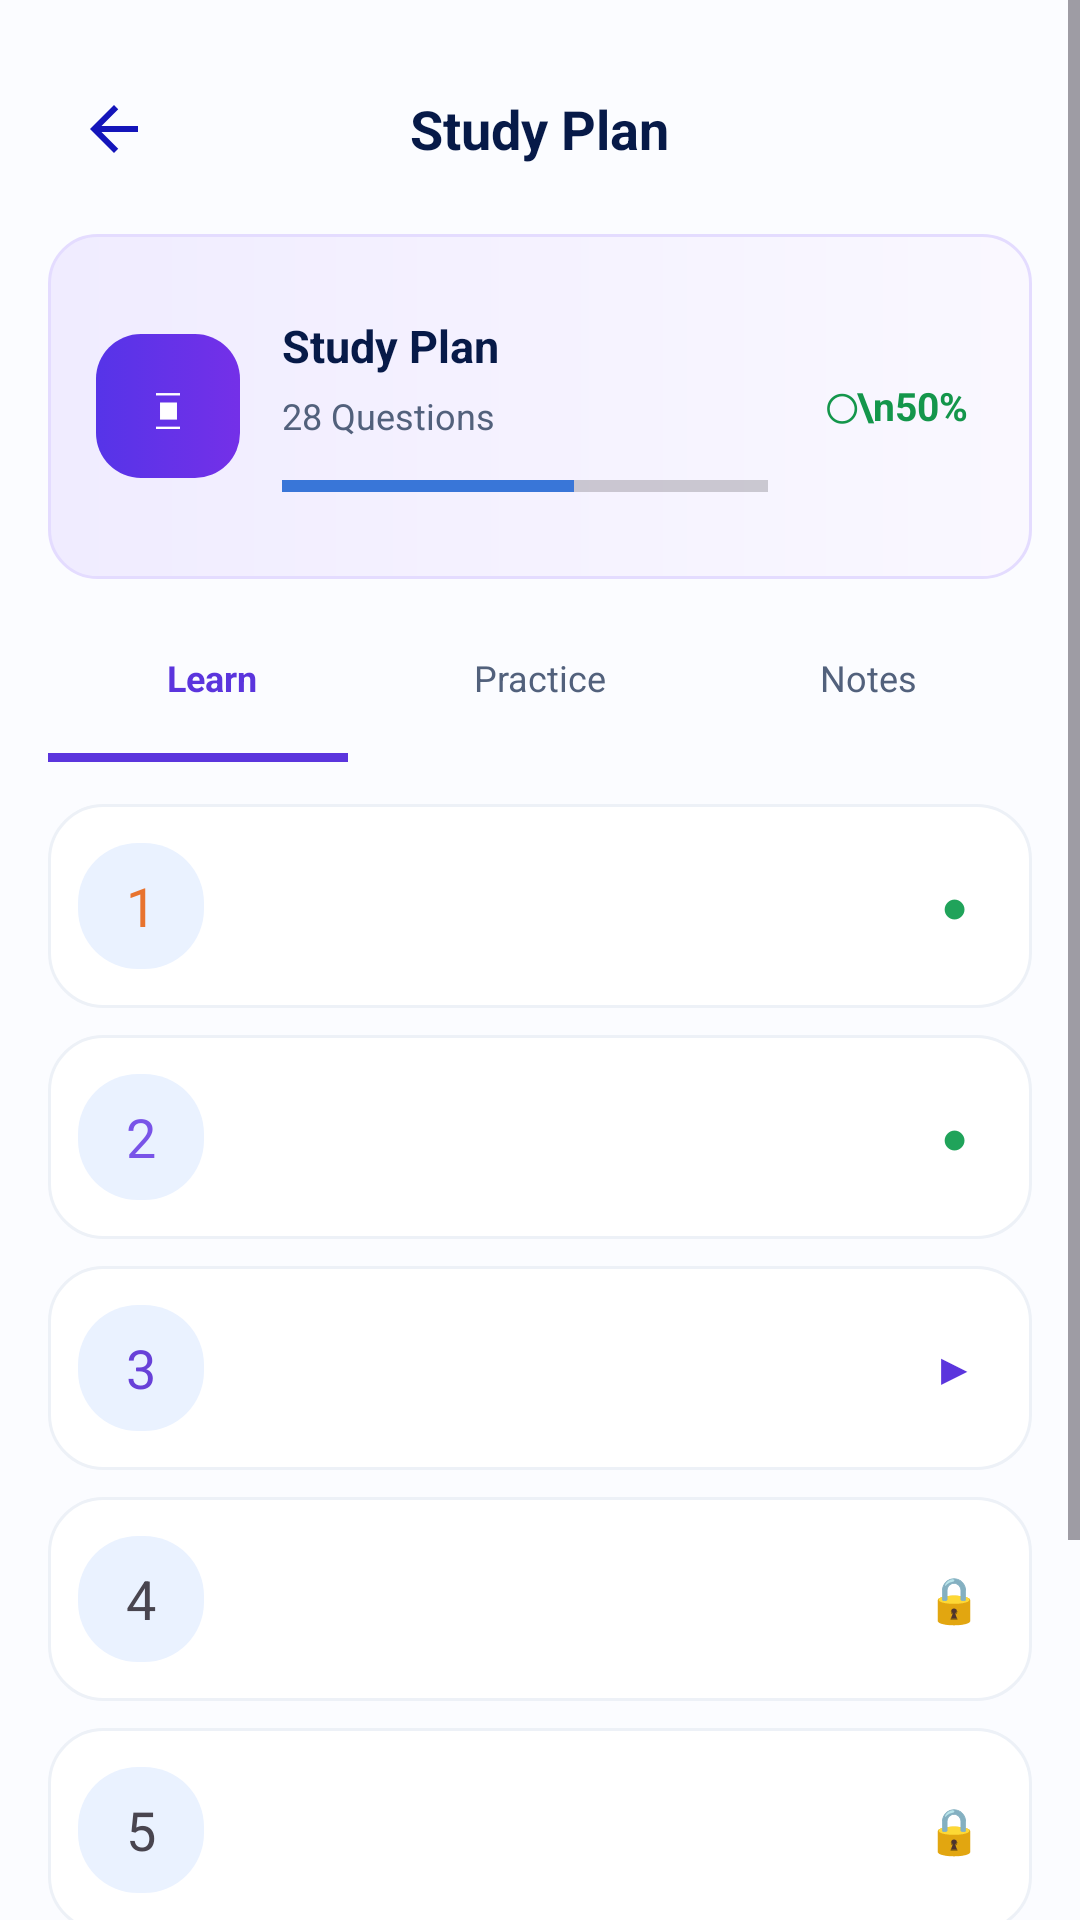

Icons on this 1080px x 1920px Android screen, each with its box as (x1, y1, x2, y2):
arrow back: (90, 105, 138, 153)
